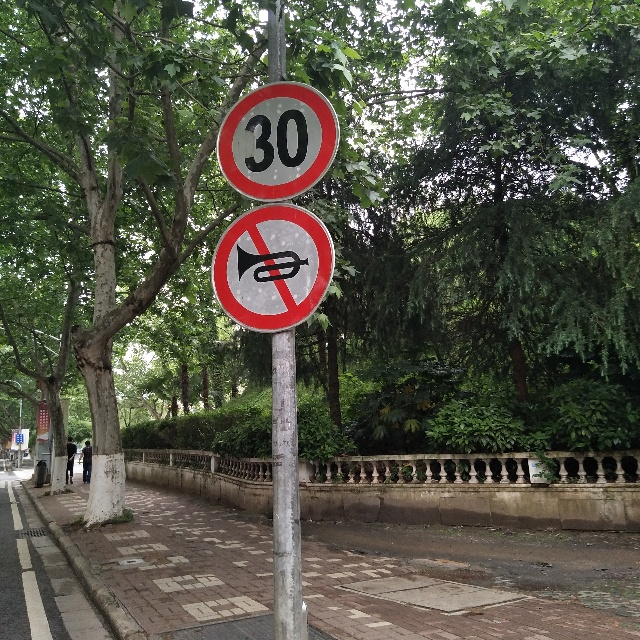nohonk: (212, 203, 335, 333)
